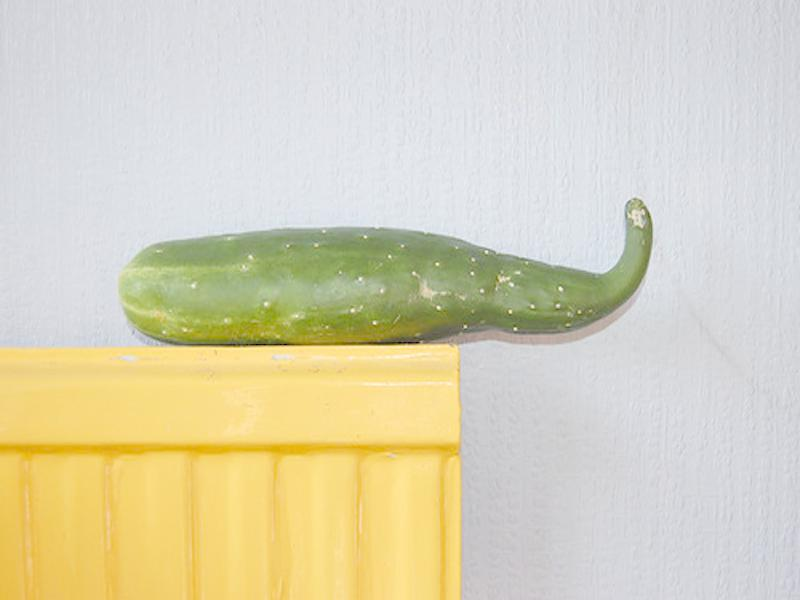Cucumber: (122, 196, 654, 346)
